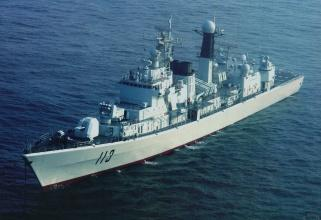warship: (19, 22, 310, 186)
